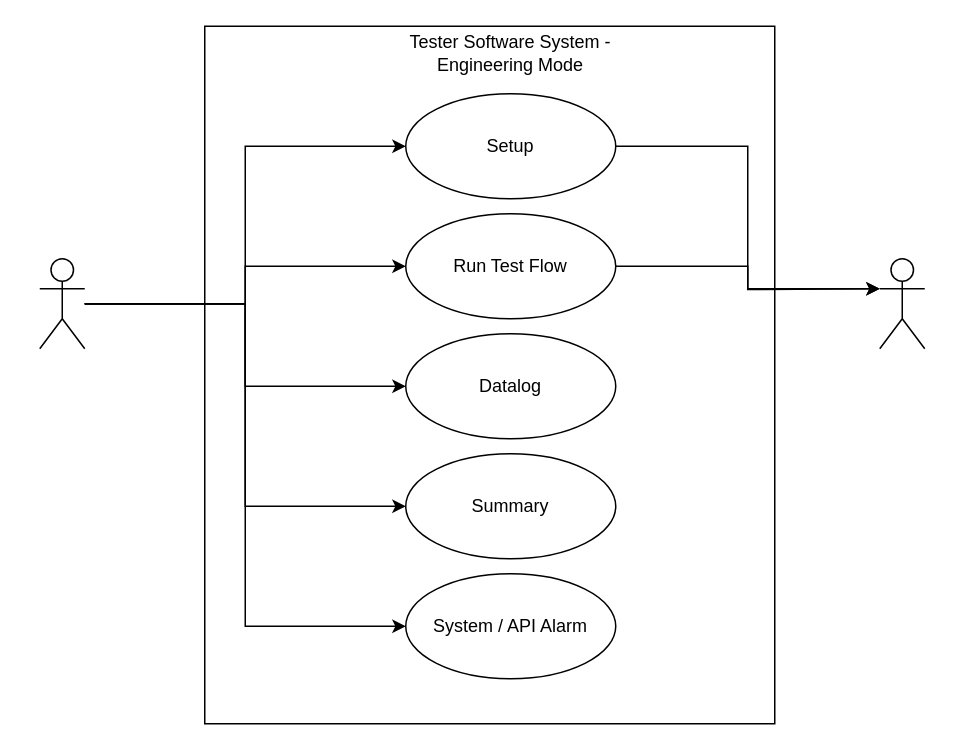
This 953x750 diagram has some shape labels left out. Each missing label, with the centre of its shape:
Engineer: pixel 61 303
Tester: pixel 901 303
